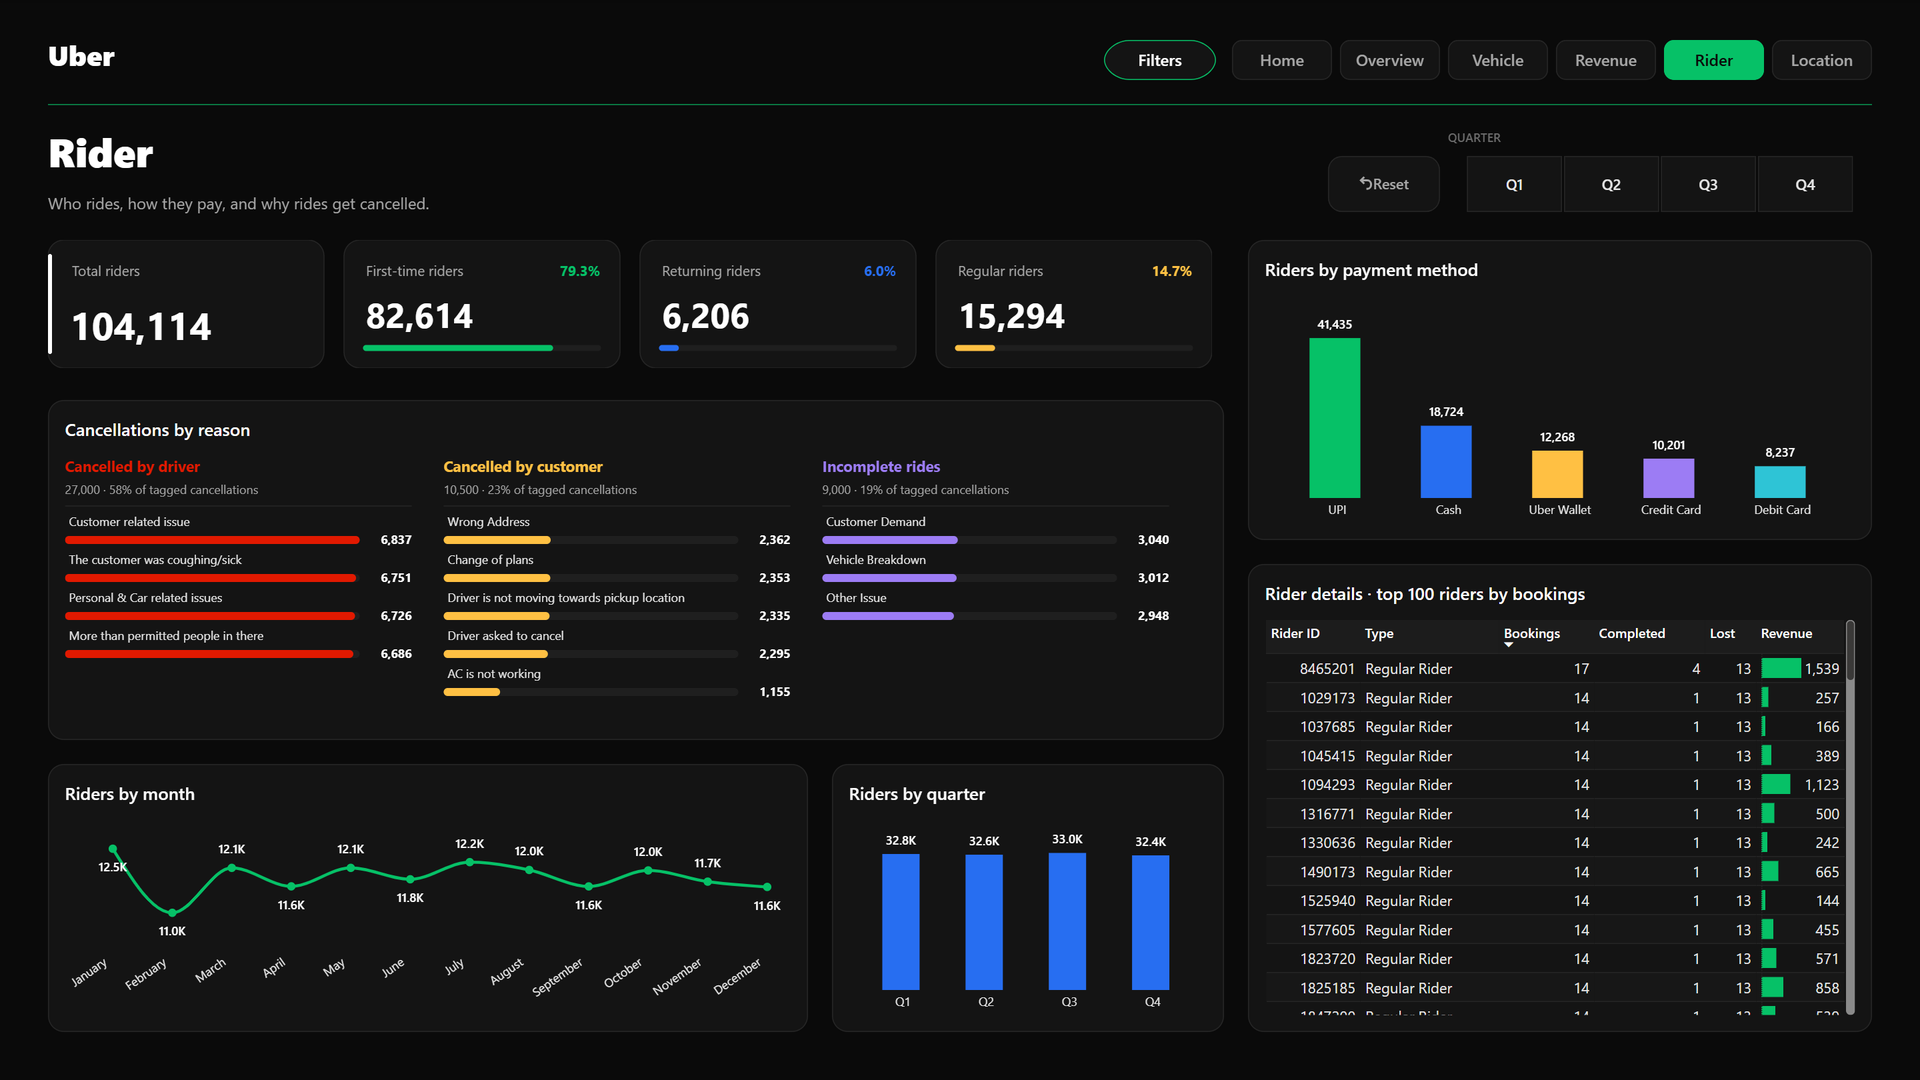

The dashboard page shown, as its layout file describes it:
{"tool":"powerbi","page":{"name":"Rider","canvas":[1920,1080],"ordinal":4},"visuals":[{"type":"textbox","box":[48,36,200,48],"z":100},{"type":"actionButton","box":[1232,40,100,40],"z":200},{"type":"actionButton","box":[1340,40,100,40],"z":300},{"type":"actionButton","box":[1448,40,100,40],"z":400},{"type":"actionButton","box":[1556,40,100,40],"z":500},{"type":"actionButton","box":[1664,40,100,40],"z":600},{"type":"actionButton","box":[1772,40,100,40],"z":700},{"type":"shape","box":[48,104,1824,1],"z":800},{"type":"textbox","box":[48,124,640,68],"z":900},{"type":"textbox","box":[48,192,640,28],"z":1000},{"type":"actionButton","box":[1328,156,112,56],"z":1100},{"type":"textbox","box":[1448,128,300,24],"z":1200},{"type":"slicer","fields":{"Values":["Dim_Date.Quarter"]},"box":[1448,156,424,56],"z":1300},{"type":"deneb7E15AEF80B9E4D4F8E12924291ECE89A","fields":{"dataset":["Dim_Customer.Customer Type","# Measures.Total Customers"]},"box":[48,240,1176,136],"z":1400},{"type":"clusteredColumnChart","title":"Riders by payment method","fields":{"Category":["Dim_Payment.Payment Method"],"Y":["# Measures.Total Customers"]},"box":[1248,240,624,300],"z":1500},{"type":"deneb7E15AEF80B9E4D4F8E12924291ECE89A","title":"Cancellations by reason","fields":{"dataset":["Dim_Reason.Reason Category","Dim_Reason.Cancellation Reason","# Measures.Lost Bookings"]},"box":[48,400,1176,340],"z":1600},{"type":"lineChart","title":"Riders by month","fields":{"Category":["Dim_Date.Month Name"],"Y":["# Measures.Total Customers"]},"box":[48,764,760,268],"z":1700},{"type":"clusteredColumnChart","title":"Riders by quarter","fields":{"Category":["Dim_Date.Quarter"],"Y":["# Measures.Total Customers"]},"box":[832,764,392,268],"z":1800},{"type":"tableEx","title":"Rider details  ·  top 100 riders by bookings","fields":{"Values":["Dim_Customer.Customer_ID","Dim_Customer.Customer Type","# Measures.Total Bookings","# Measures.Completed Bookings","# Measures.Lost Bookings","# Measures.Revenue"]},"box":[1248,564,624,468],"z":1900},{"type":"actionButton","box":[1104,40,112,40],"z":90010}]}

Visuals, with their boxes in screenshot pixels (x1, y1, x2, y2), scaled from the page's 1920x1080 canvas onto the 1920x1080 screenshot:
textbox: (x1=48, y1=36, x2=248, y2=84)
actionButton: (x1=1232, y1=40, x2=1332, y2=80)
actionButton: (x1=1340, y1=40, x2=1440, y2=80)
actionButton: (x1=1448, y1=40, x2=1548, y2=80)
actionButton: (x1=1556, y1=40, x2=1656, y2=80)
actionButton: (x1=1664, y1=40, x2=1764, y2=80)
actionButton: (x1=1772, y1=40, x2=1872, y2=80)
shape: (x1=48, y1=104, x2=1872, y2=105)
textbox: (x1=48, y1=124, x2=688, y2=192)
textbox: (x1=48, y1=192, x2=688, y2=220)
actionButton: (x1=1328, y1=156, x2=1440, y2=212)
textbox: (x1=1448, y1=128, x2=1748, y2=152)
slicer - Dim_Date.Quarter: (x1=1448, y1=156, x2=1872, y2=212)
deneb7E15AEF80B9E4D4F8E12924291ECE89A - Dim_Customer.Customer Type x # Measures.Total Customers: (x1=48, y1=240, x2=1224, y2=376)
"Riders by payment method" clusteredColumnChart: (x1=1248, y1=240, x2=1872, y2=540)
"Cancellations by reason" deneb7E15AEF80B9E4D4F8E12924291ECE89A: (x1=48, y1=400, x2=1224, y2=740)
"Riders by month" lineChart: (x1=48, y1=764, x2=808, y2=1032)
"Riders by quarter" clusteredColumnChart: (x1=832, y1=764, x2=1224, y2=1032)
"Rider details  ·  top 100 riders by bookings" tableEx: (x1=1248, y1=564, x2=1872, y2=1032)
actionButton: (x1=1104, y1=40, x2=1216, y2=80)
